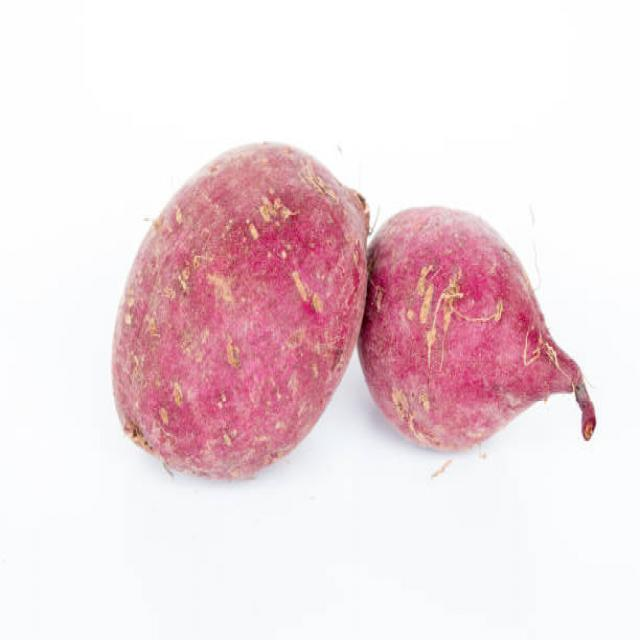sweet potato: (110, 136, 367, 484), (364, 199, 598, 455)
